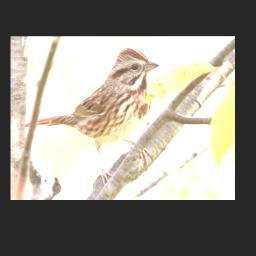Sparrow: (23, 45, 162, 187)
